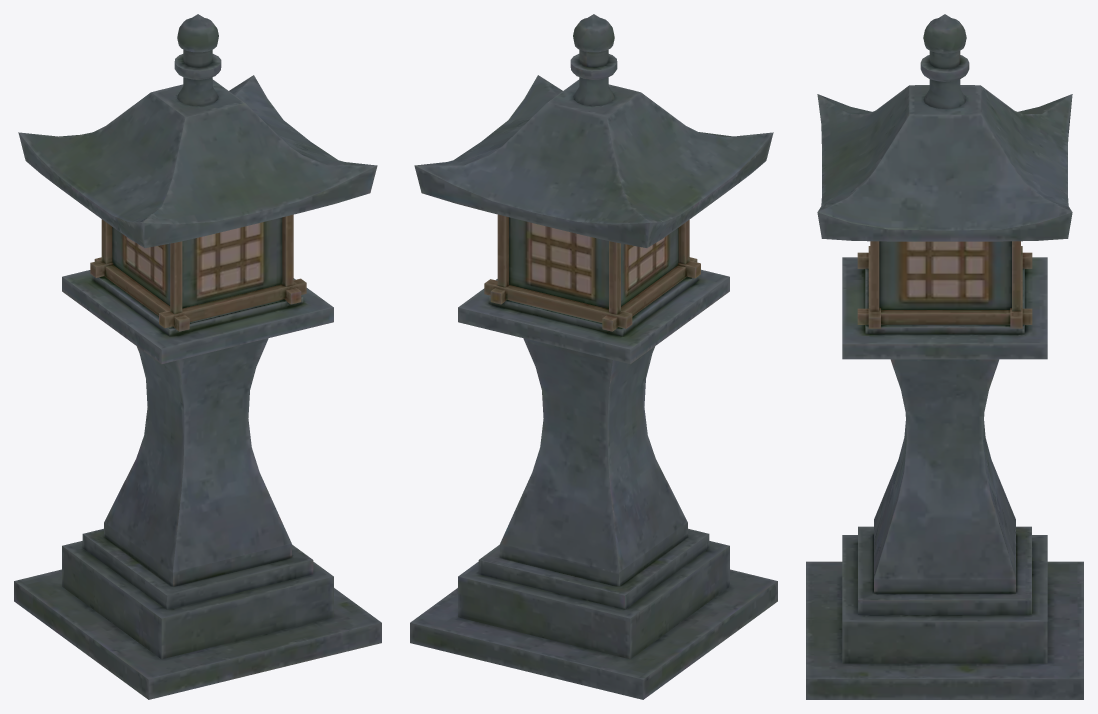
Rendered from japanese_street_lamp.glb.
3 renders of one model, left to right at view 1: azimuth 30°, elevation 25°; view 2: azimuth 150°, elevation 25°; view 3: azimuth 270°, elevation 25°, orthographic. The views are drawn at different scales.
Visible parts, largest first — view 1: SM_StreetLight__0; view 2: SM_StreetLight__0; view 3: SM_StreetLight__0.
Boxes of the visible parts, bbox=[...] form: SM_StreetLight__0: bbox=[14, 14, 381, 699]; SM_StreetLight__0: bbox=[410, 14, 777, 699]; SM_StreetLight__0: bbox=[806, 14, 1083, 699].
Bounding box in the file's own units: 0.511 × 1.26 × 0.5061.
1 material, 1 textured.
